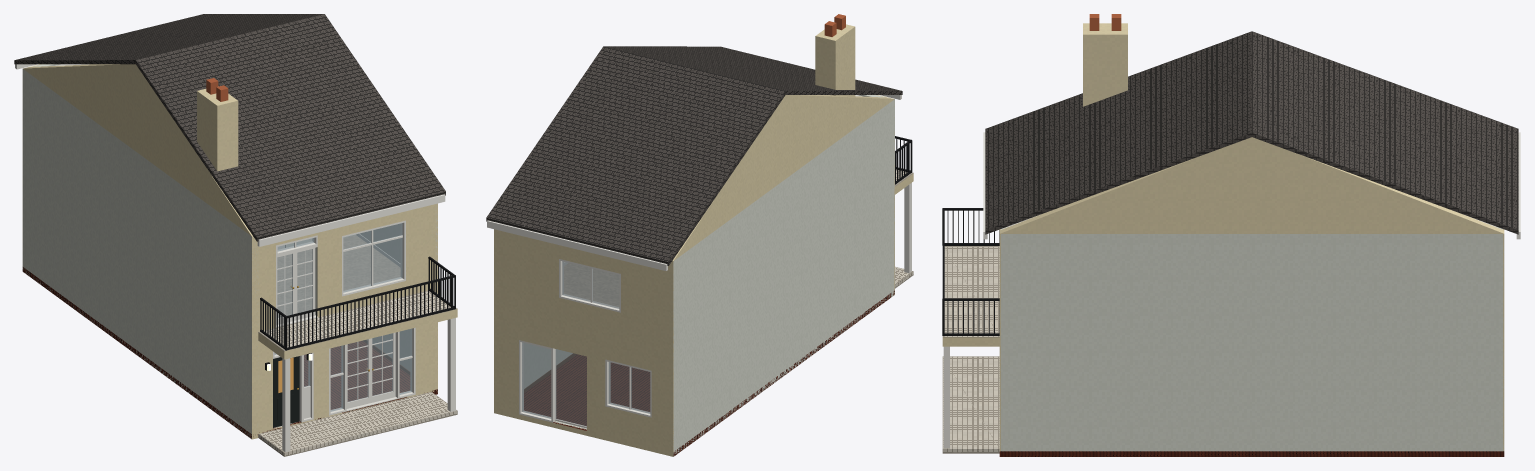
Rendered from shenton_house.glb.
3 views of the same model, side by side, from view 1: azimuth 30°, elevation 25°; view 2: azimuth 150°, elevation 25°; view 3: azimuth 270°, elevation 25° (orthographic). The views are drawn at different scales.
Parts seen in each view (by area): view 1: House-col, House_Roof, House, House_Glass, Door_French_R, Door_French_L, Door_Balcony_R, Door_Front, Door_Balcony_L; view 2: House-col, House_Roof, House_Glass, House, Door_Sliding; view 3: House-col, House_Roof, House.
Part boxes in pixels (x1,y1,x2,y2): House-col: (22, 64, 457, 456); House_Roof: (14, 14, 445, 246); House: (55, 64, 455, 421); House_Glass: (274, 223, 412, 411); Door_French_R: (370, 332, 395, 402); Door_French_L: (346, 338, 370, 408); Door_Balcony_R: (295, 248, 315, 320); Door_Front: (273, 356, 299, 427); Door_Balcony_L: (276, 252, 294, 325); House-col: (494, 95, 913, 456); House_Roof: (486, 14, 902, 270); House_Glass: (522, 261, 650, 418); House: (519, 95, 912, 422); Door_Sliding: (555, 349, 586, 428); House-col: (942, 208, 1504, 456); House_Roof: (983, 14, 1520, 239); House: (942, 208, 1495, 336).
Size of what is drawn, in the model's own units: 5.9 by 9.45 by 14.21.
23 materials, 9 textured.
